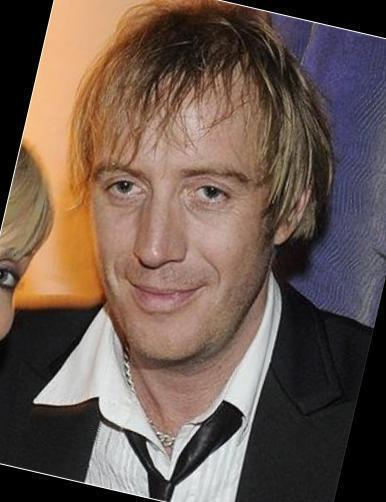Drunk: (89, 81, 262, 358)
